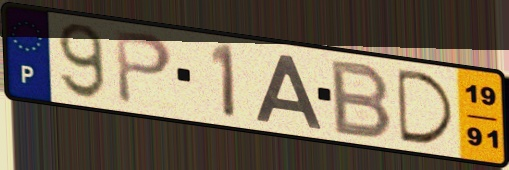1: (208, 42, 239, 122)
9: (53, 21, 109, 102)
A: (253, 52, 325, 132)
B: (330, 57, 396, 142)
D: (393, 66, 459, 148)
P: (112, 27, 176, 108)
